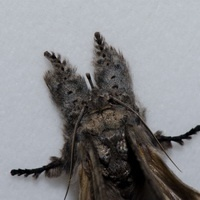insect: (11, 32, 199, 199)
